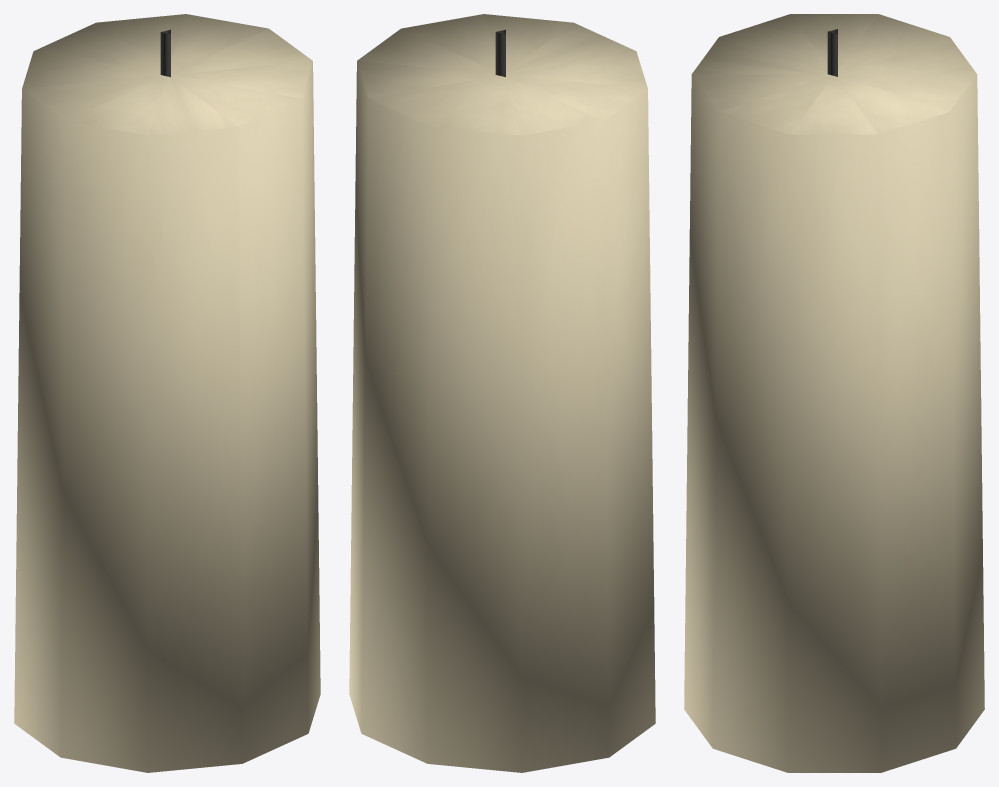
The model's file is Candle_2.gltf.
3 renders of one model, left to right at view 1: azimuth 30°, elevation 25°; view 2: azimuth 150°, elevation 25°; view 3: azimuth 270°, elevation 25°, orthographic.
Visible parts, largest first — view 1: Candle_2; view 2: Candle_2; view 3: Candle_2.
Part boxes in pixels (x1,y1,x2,y2): Candle_2: (14, 14, 320, 772); Candle_2: (349, 14, 655, 772); Candle_2: (684, 14, 984, 772).
Size of the model in its own units: 0.1 by 0.25 by 0.1.
2 materials, 2 textured.
